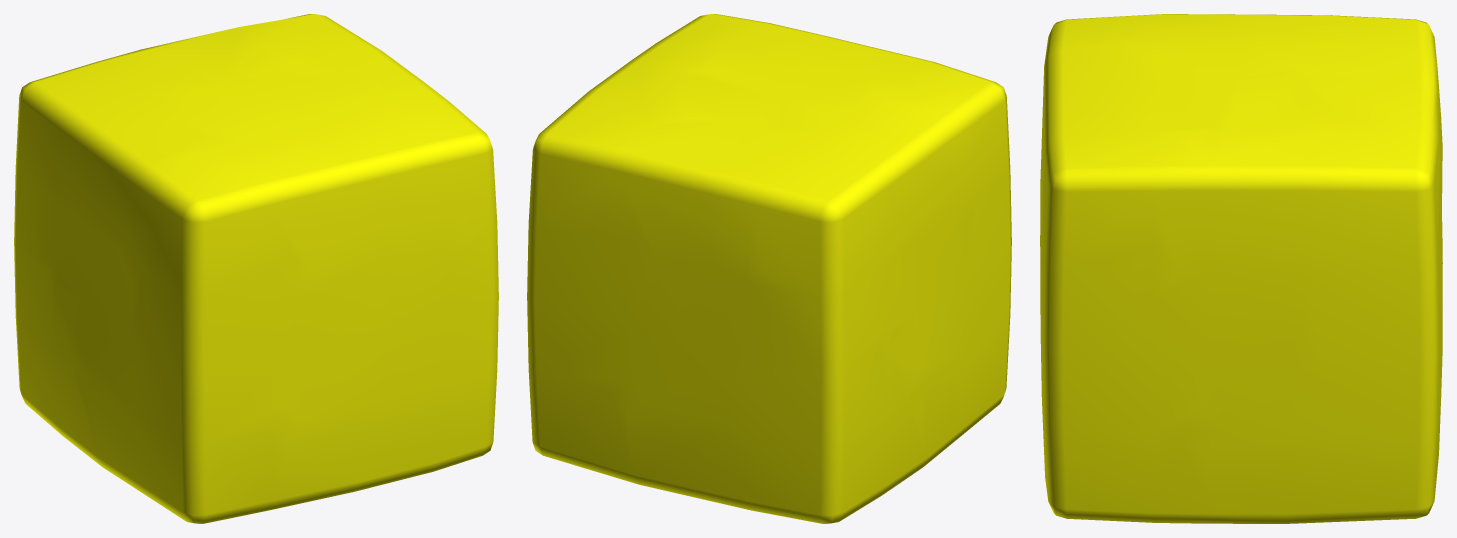
File: snow_cube.glb
3 renders of one model, left to right at view 1: azimuth 30°, elevation 25°; view 2: azimuth 150°, elevation 25°; view 3: azimuth 270°, elevation 25°, orthographic. The views are drawn at different scales.
Visible parts, largest first — view 1: snow_block_1_LOD0; view 2: snow_block_1_LOD0; view 3: snow_block_1_LOD0.
Part boxes in pixels (x1,y1,x2,y2): snow_block_1_LOD0: (14, 14, 498, 523); snow_block_1_LOD0: (527, 14, 1011, 523); snow_block_1_LOD0: (1040, 14, 1442, 523).
Size of what is drawn, in the model's own units: 1.09 by 1.09 by 1.09.
1 material, 1 textured.
